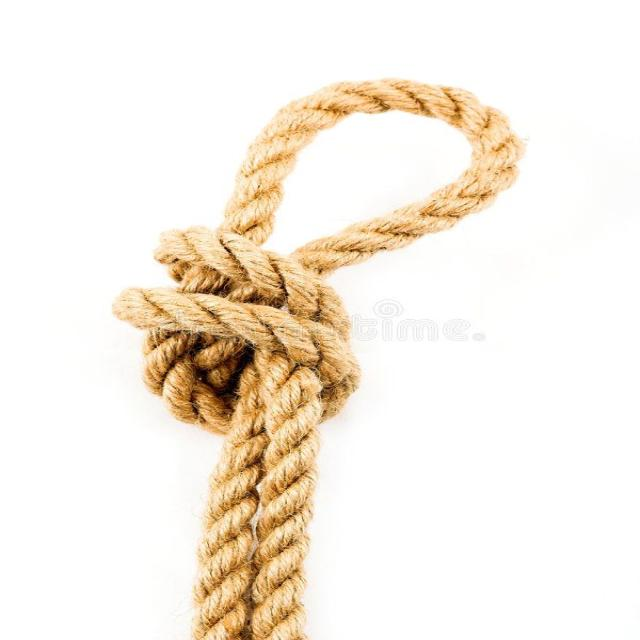Rope: (126, 74, 523, 640)
